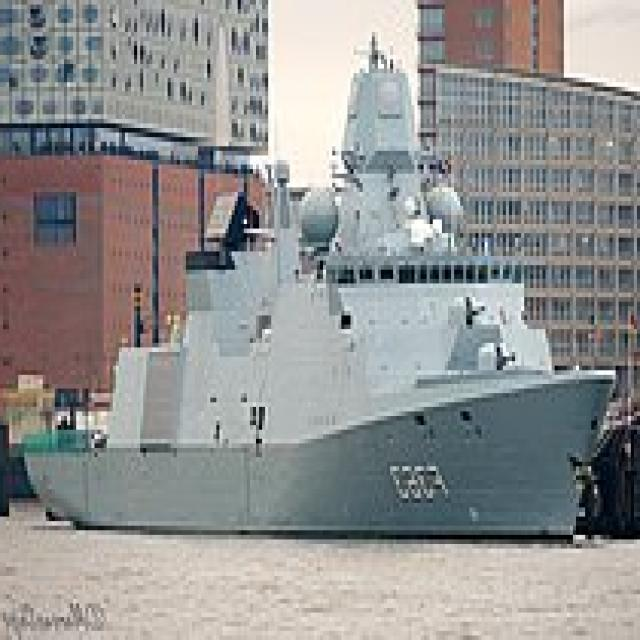Warship: (24, 23, 625, 544)
